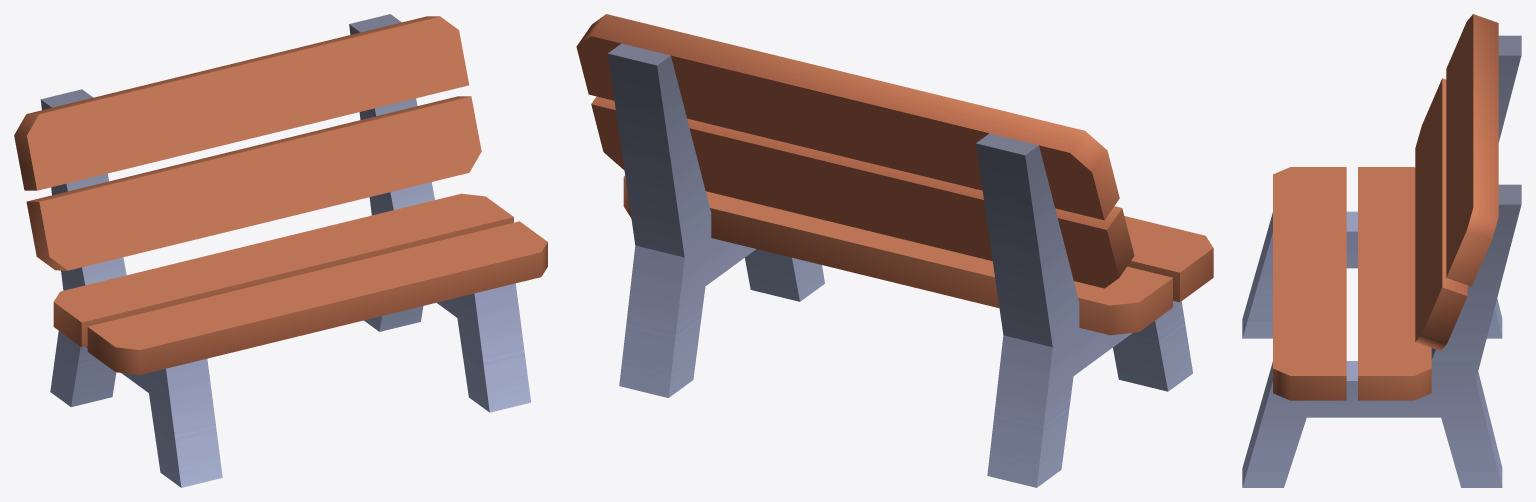
The model's file is holiday_bench.glb.
The picture shows the model from 3 angles, left to right: view 1: azimuth 30°, elevation 25°; view 2: azimuth 150°, elevation 25°; view 3: azimuth 270°, elevation 25°; orthographic projection. The views are drawn at different scales.
Visible parts, largest first — view 1: bench; view 2: bench; view 3: bench.
Boxes of the visible parts, x1,y1,x2,y2 form: bench: [14, 14, 547, 487]; bench: [576, 14, 1213, 487]; bench: [1242, 14, 1521, 487].
Size of the model in its own units: 1.12 by 0.7306 by 0.6322.
Materials: 1 (1 with a texture image).
